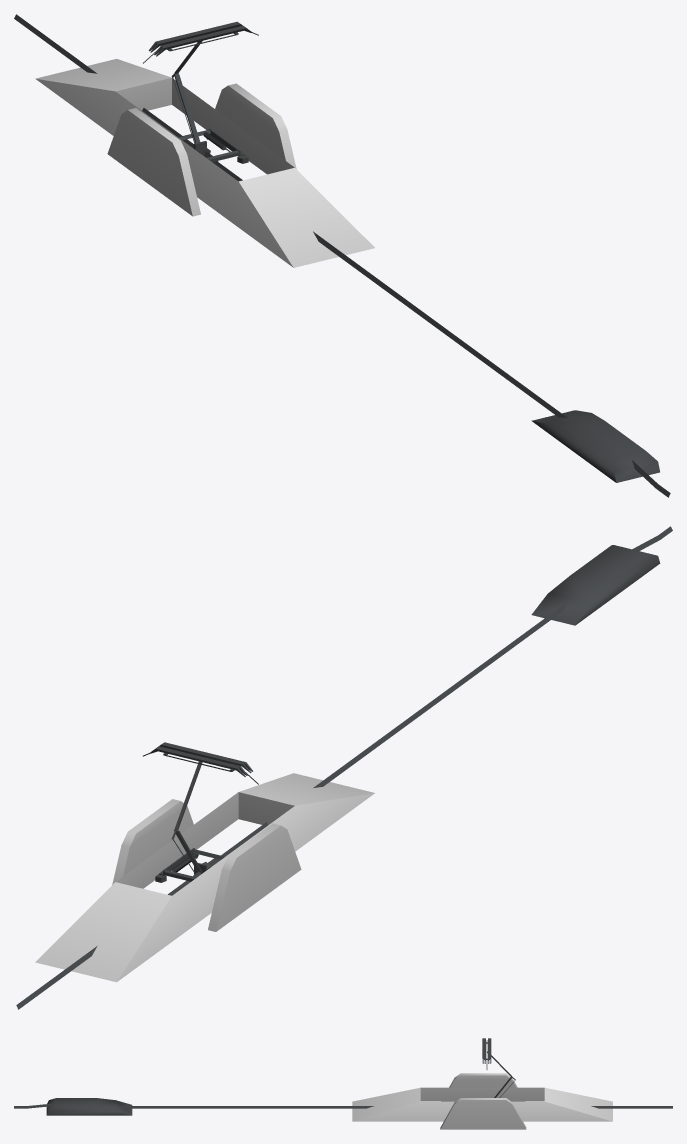
The model's file is S300_BOJ_05.glb.
3 renders of one model, top to bottom at view 1: azimuth 30°, elevation 25°; view 2: azimuth 150°, elevation 25°; view 3: azimuth 270°, elevation 25°, orthographic. The views are drawn at different scales.
Parts seen in each view (by area): view 1: obj8; view 2: obj8; view 3: obj8.
Boxes of the visible parts, x1,y1,x2,y2 form: obj8: (14,14,670,497); obj8: (16,526,672,1009); obj8: (14,1038,672,1129).
Size of the model in its own units: 4.48 by 4.96 by 43.7.
Materials: 2 (2 with a texture image).
